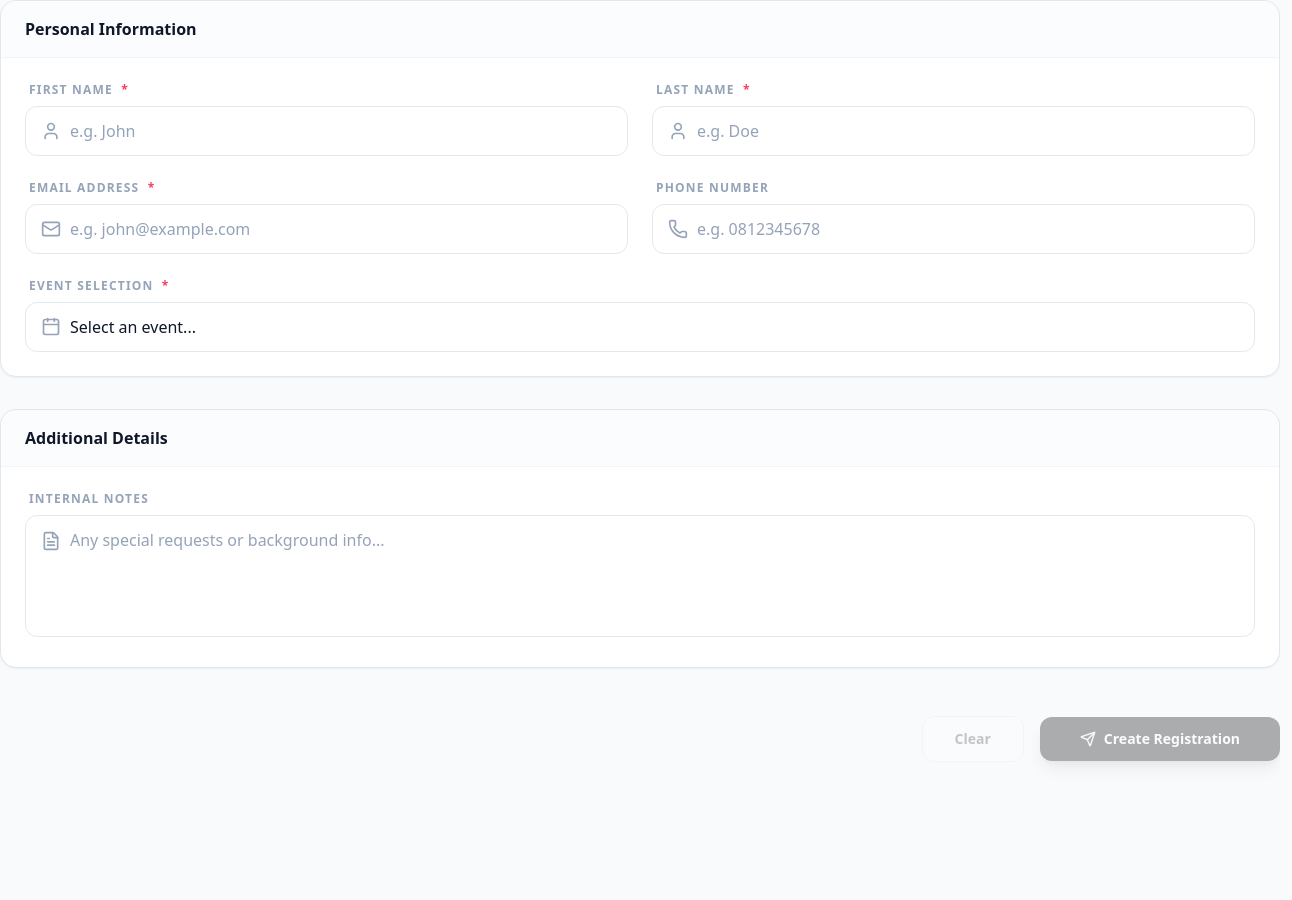
RegistrationForm › shows validation errors for required fields
The image size is (1292, 900).
# Fill something to enable the button
Type "J" into the field with placeholder "e.g. John".
click(326, 131); type("J")  # box [25, 106, 628, 156]
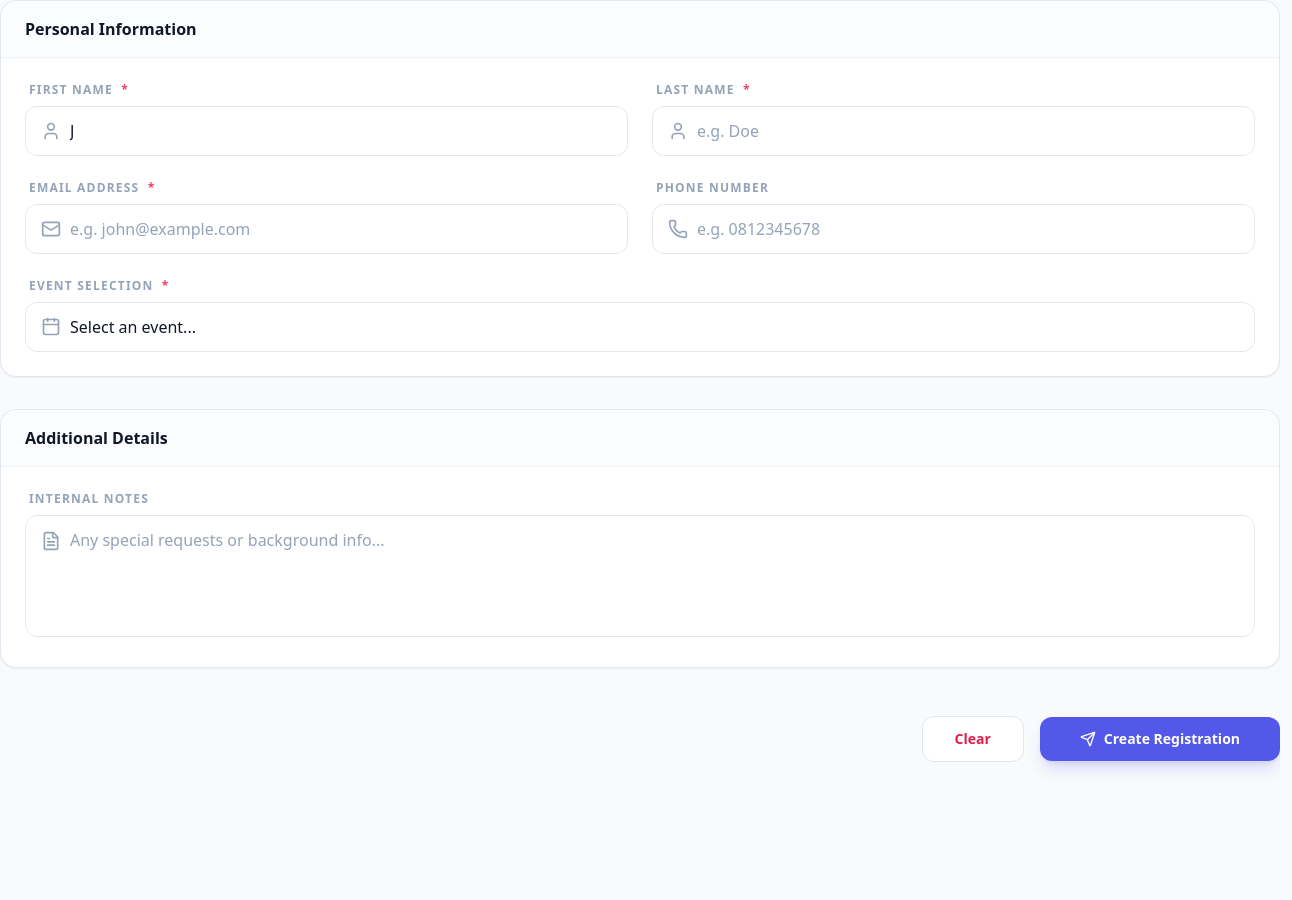
Click the button "Create Registration".
click(1160, 739)  # box [1040, 717, 1280, 761]
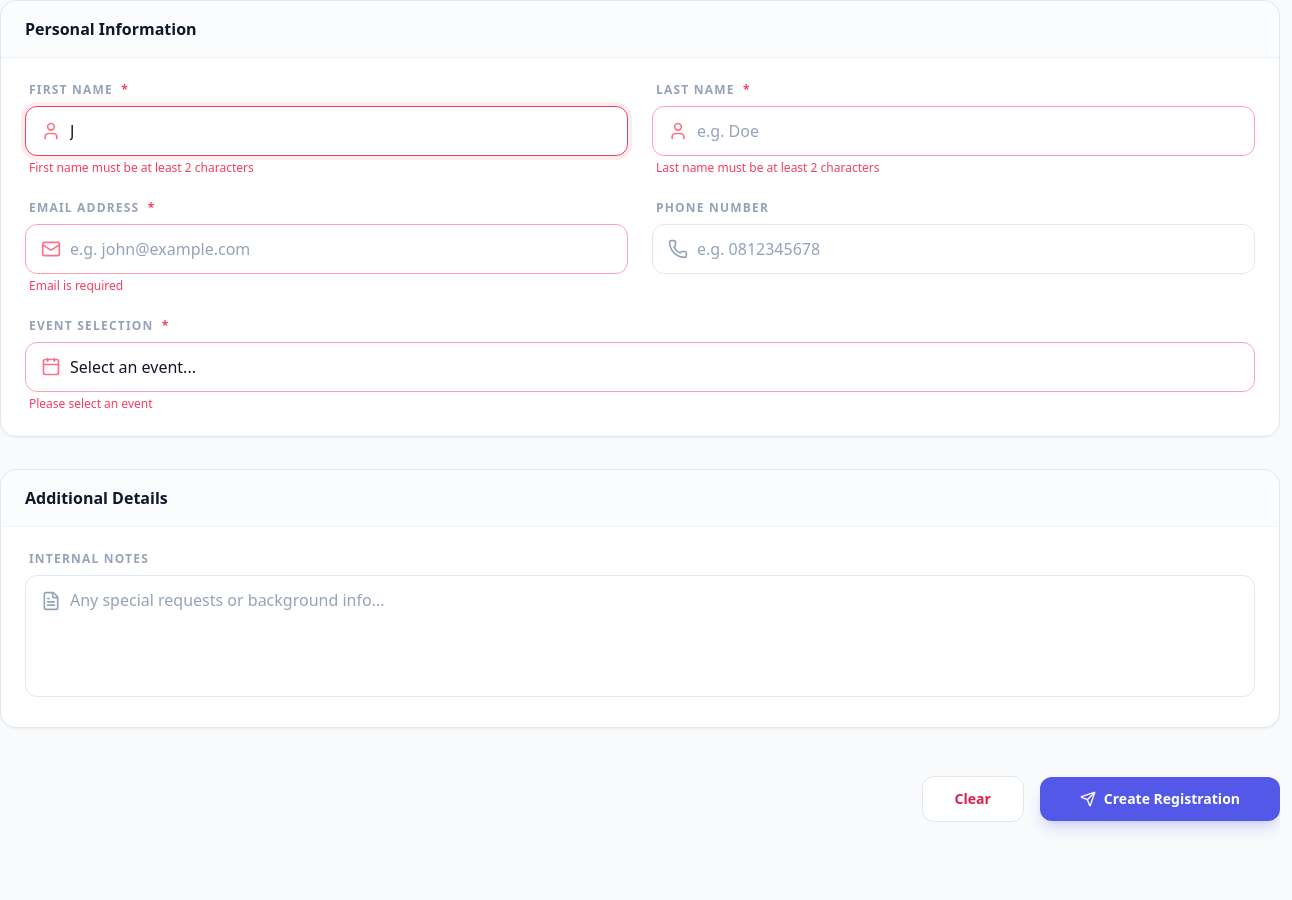
Expected: the text "First name must be at least 2 characters" is shown, [29, 159, 254, 176]
Expected: the text "Last name must be at least 2 characters" is shown, [656, 159, 880, 176]
Expected: the text "Email is required" is shown, [29, 277, 123, 294]
